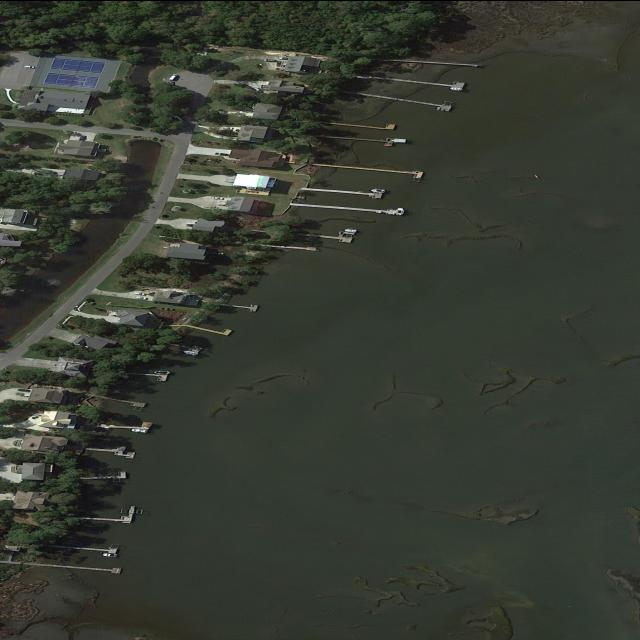ship: (130, 427, 148, 433), (182, 349, 199, 355), (394, 206, 404, 214), (101, 552, 119, 556), (153, 370, 169, 374), (370, 188, 385, 192), (448, 86, 462, 90), (344, 227, 357, 231)
small-vehicle: (252, 86, 263, 93), (168, 73, 178, 80), (174, 115, 185, 121), (17, 387, 30, 391), (212, 195, 224, 199), (263, 58, 275, 61), (215, 152, 227, 155), (134, 296, 146, 299), (134, 291, 144, 294), (222, 126, 234, 128)
